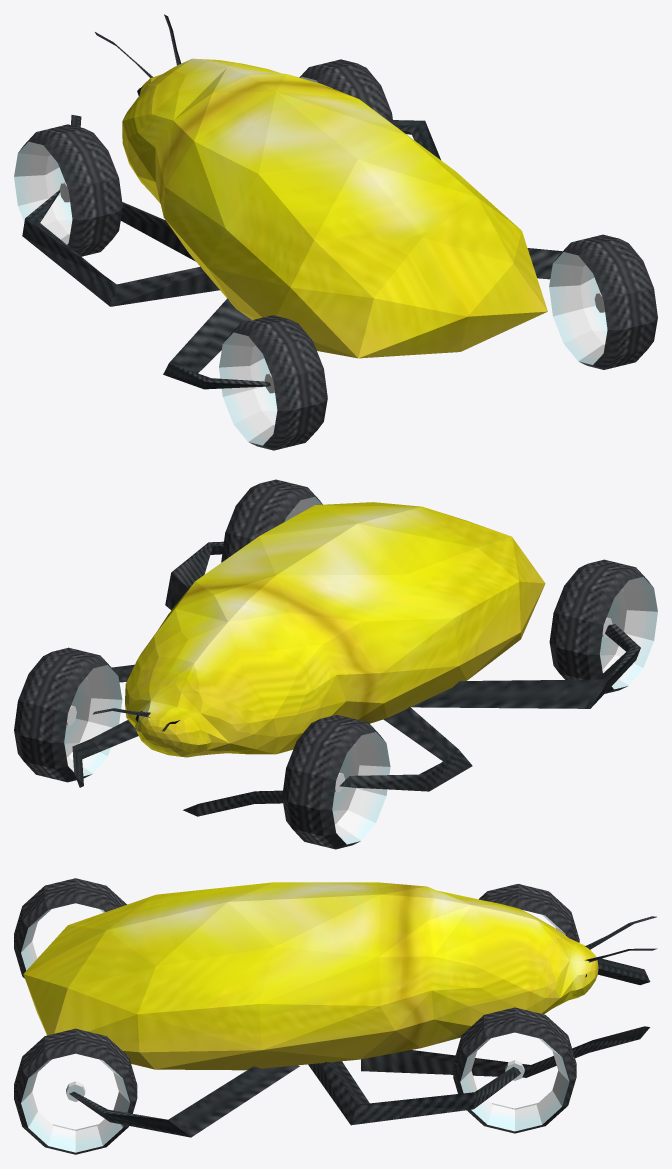
Rendered from beetleshow.glb.
The picture shows the model from 3 angles, top to bottom: view 1: azimuth 30°, elevation 25°; view 2: azimuth 150°, elevation 25°; view 3: azimuth 270°, elevation 25°; orthographic projection. The views are drawn at different scales.
Parts seen in each view (by area): view 1: ZtoY, legs128, wheel_rr128, wheel_lr128, wheel_lf128, wheel_rf128; view 2: ZtoY, legs128, wheel_lf128, wheel_rf128, wheel_lr128, wheel_rr128; view 3: ZtoY, legs128, wheel_rr128, wheel_rf128, wheel_lr128, wheel_lf128, antenna128.
Boxes of the visible parts, x1,y1,x2,y2 form: ZtoY: [122, 58, 547, 358]; legs128: [22, 115, 562, 389]; wheel_rr128: [549, 234, 657, 369]; wheel_lr128: [219, 315, 327, 450]; wheel_lf128: [14, 124, 122, 256]; wheel_rf128: [299, 59, 393, 124]; ZtoY: [125, 502, 545, 757]; legs128: [72, 541, 640, 816]; wheel_lf128: [282, 715, 390, 849]; wheel_rf128: [14, 647, 122, 782]; wheel_lr128: [549, 559, 657, 693]; wheel_rr128: [221, 479, 322, 562]; ZtoY: [23, 882, 598, 1070]; legs128: [69, 958, 650, 1137]; wheel_rr128: [14, 1028, 137, 1154]; wheel_rf128: [453, 1007, 576, 1133]; wheel_lr128: [14, 878, 126, 978]; wheel_lf128: [479, 884, 579, 942]; antenna128: [585, 916, 657, 962].
Bounding box in the file's own units: 4.87 × 2.02 × 6.61.
2 materials, 2 textured.
